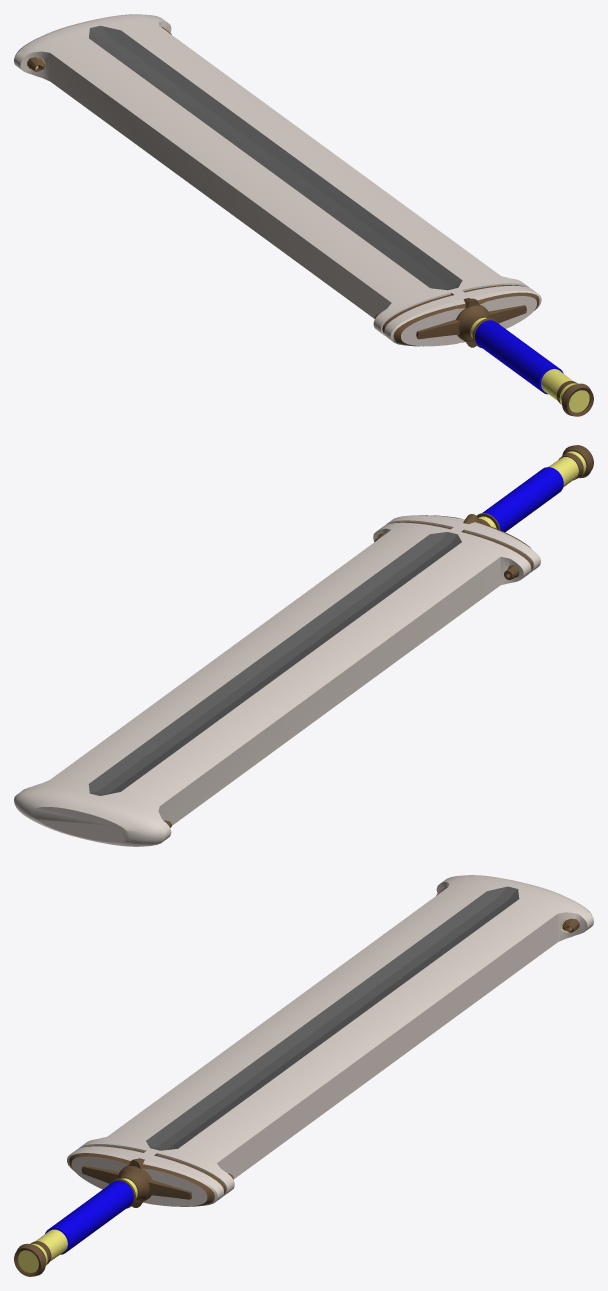
The model's file is BatSword.fbx.
The picture shows the model from 3 angles, top to bottom: view 1: azimuth 30°, elevation 25°; view 2: azimuth 150°, elevation 25°; view 3: azimuth 330°, elevation 25°; orthographic projection.
Visible parts, largest first — view 1: Sword; view 2: Sword; view 3: Sword.
Part boxes in pixels (x1,y1,x2,y2): Sword: [14, 14, 593, 416]; Sword: [14, 445, 593, 846]; Sword: [14, 875, 593, 1276].
Size of the model in its own units: 20 by 6.05 by 115.
